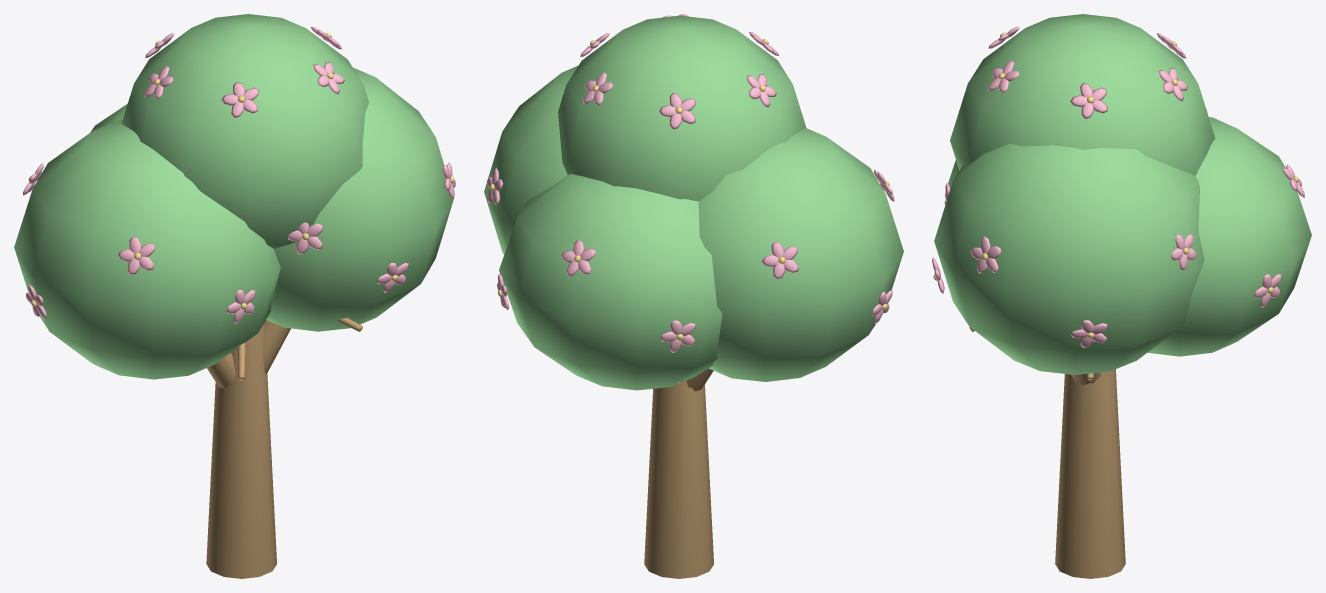
File: tree_harvest_spring.glb
The picture shows the model from 3 angles, left to right: view 1: azimuth 30°, elevation 25°; view 2: azimuth 150°, elevation 25°; view 3: azimuth 270°, elevation 25°; orthographic projection.
Size of the model in its own units: 2.46 by 3.19 by 2.04.
